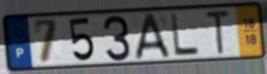3: (101, 13, 131, 63)
5: (67, 16, 96, 63)
7: (32, 17, 62, 66)
A: (133, 12, 173, 62)
L: (168, 12, 202, 59)
T: (204, 9, 232, 57)
